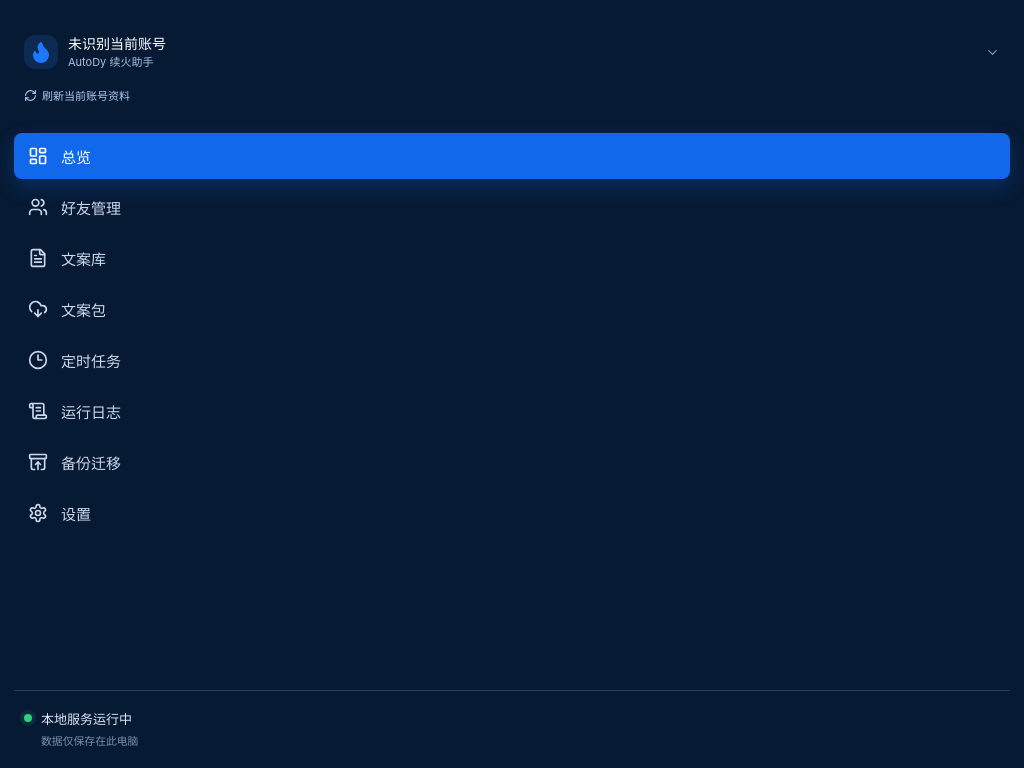
closes the account popover on Escape
Click the button with aria-label "打开账号切换器" at (41, 52), box [14,25,1010,79]
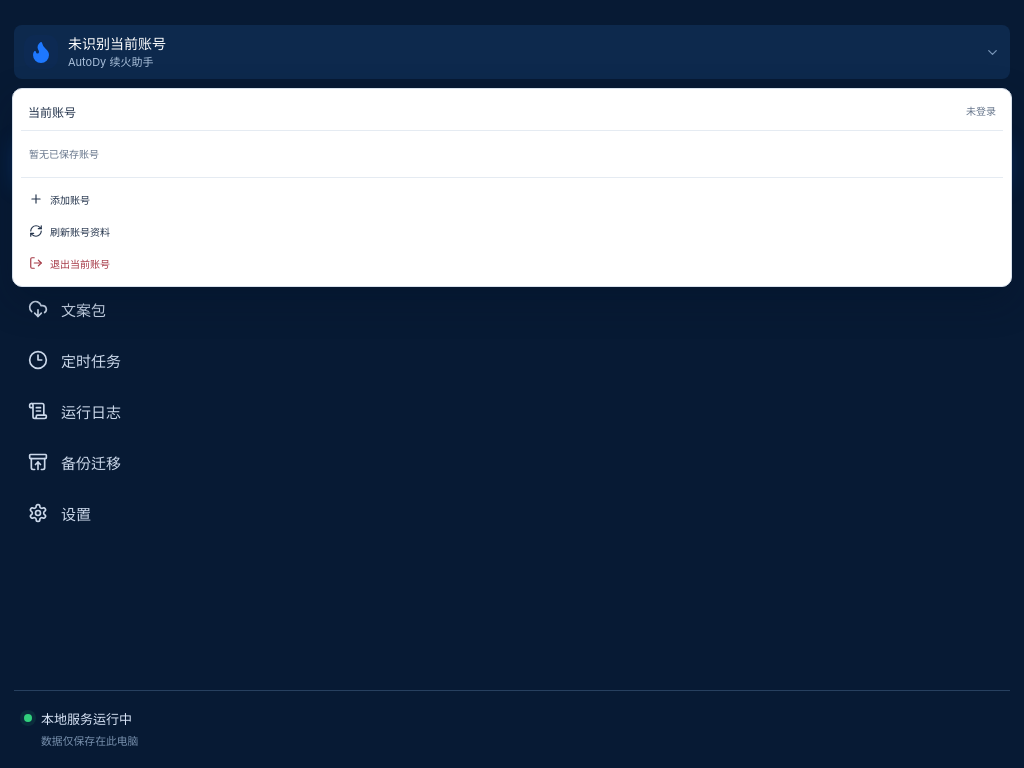
Press Escape
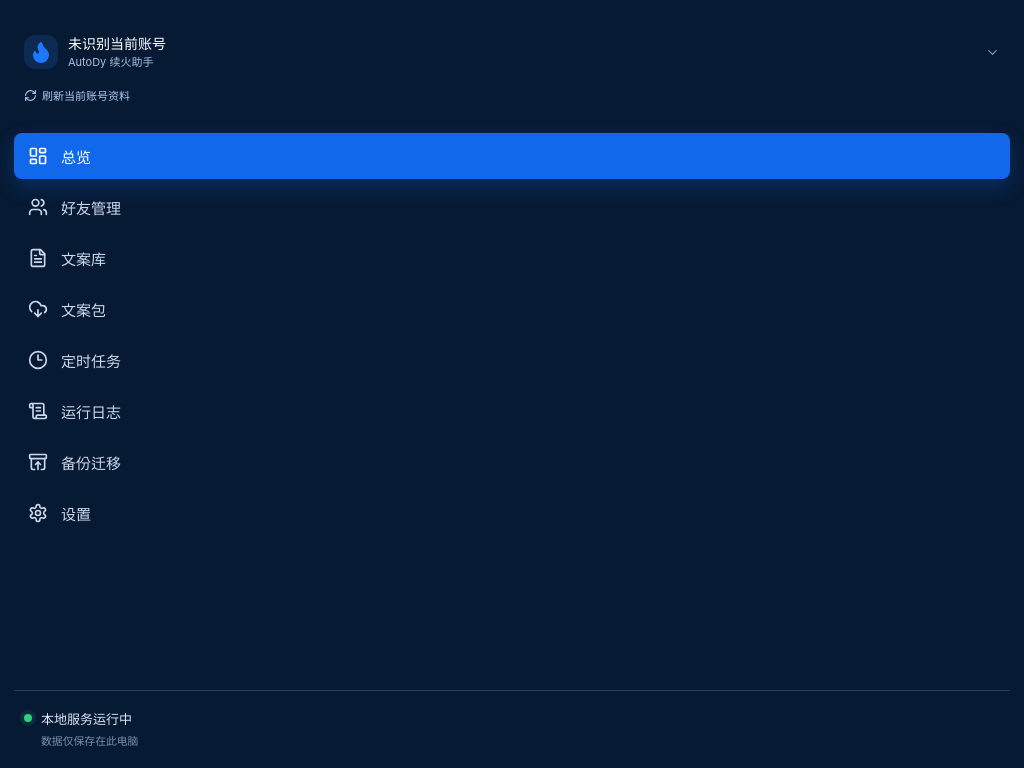
Expected: the dialog "账号切换器" is gone
